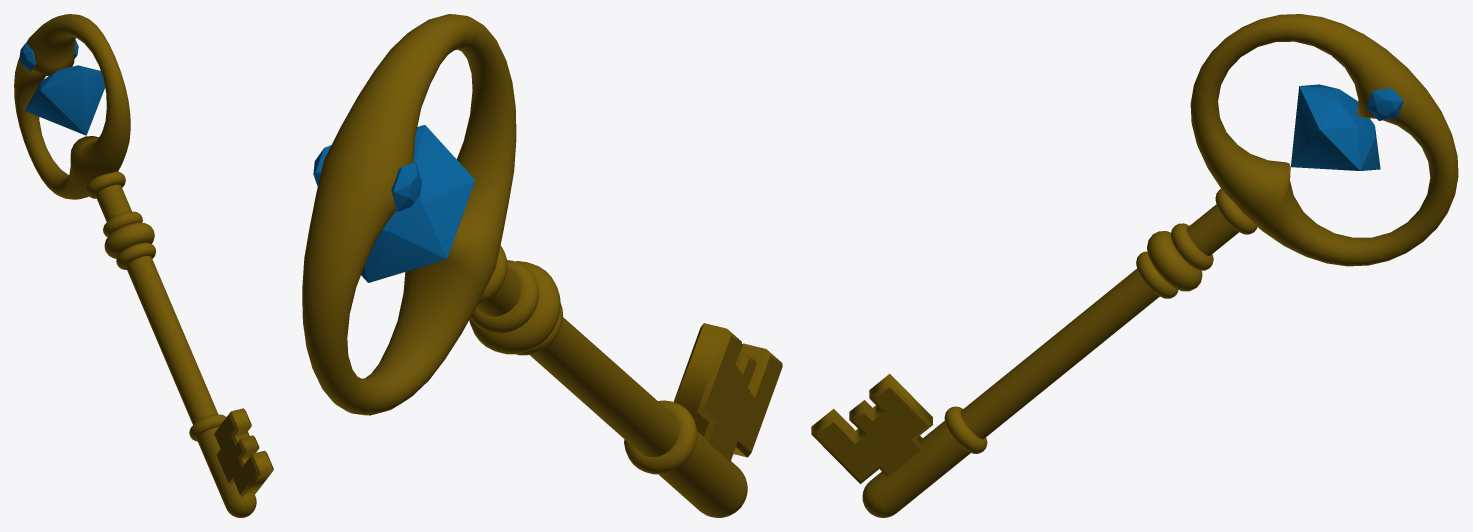
File: anahtar_anim 1.fbx
3 views of the same model, side by side, from view 1: azimuth 30°, elevation 25°; view 2: azimuth 150°, elevation 25°; view 3: azimuth 270°, elevation 25° (orthographic). The views are drawn at different scales.
Visible parts, largest first — view 1: anahtar; view 2: anahtar; view 3: anahtar.
Boxes of the visible parts, left/top/right/bottom form: anahtar: left=14, top=14, right=273, bottom=517; anahtar: left=302, top=14, right=782, bottom=517; anahtar: left=811, top=14, right=1458, bottom=517.
Bounding box in the file's own units: 27.96 × 145 × 170.
